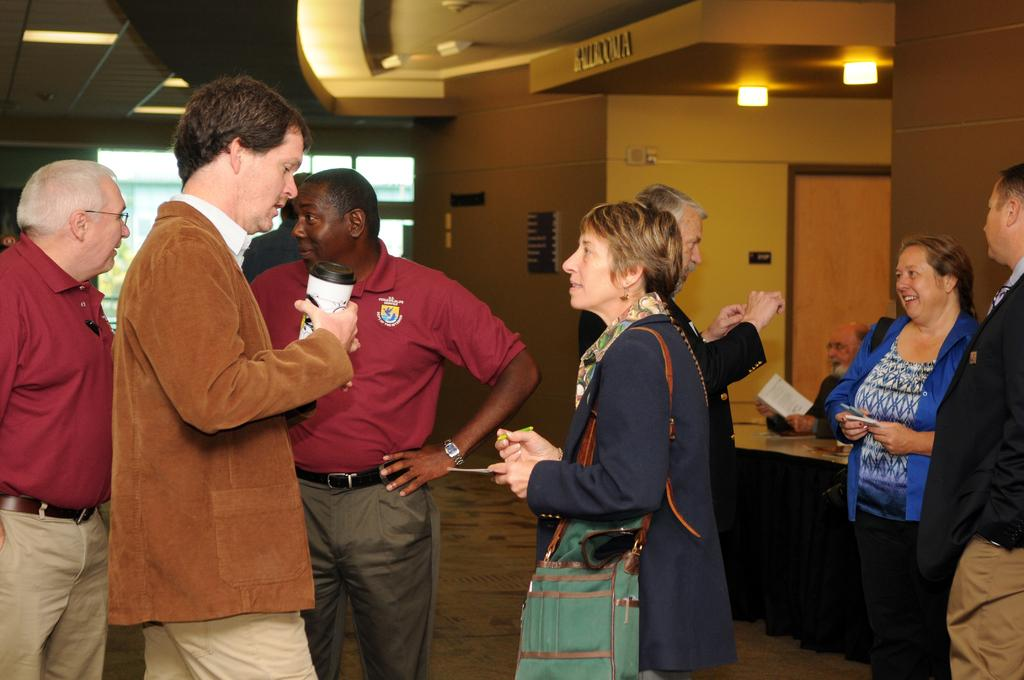Sem Máscara: (552, 206, 625, 311), (235, 117, 300, 222), (76, 161, 130, 272), (289, 175, 351, 271), (885, 237, 938, 323), (668, 201, 704, 300), (973, 165, 1001, 257), (818, 322, 858, 373)
